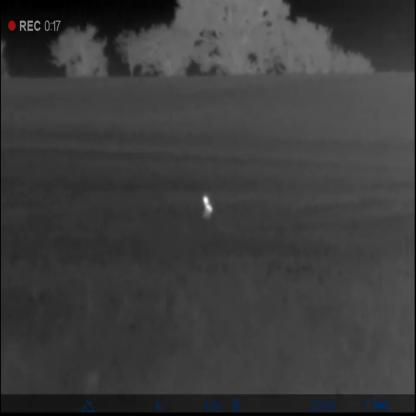rehkitze: (198, 195, 216, 223)
